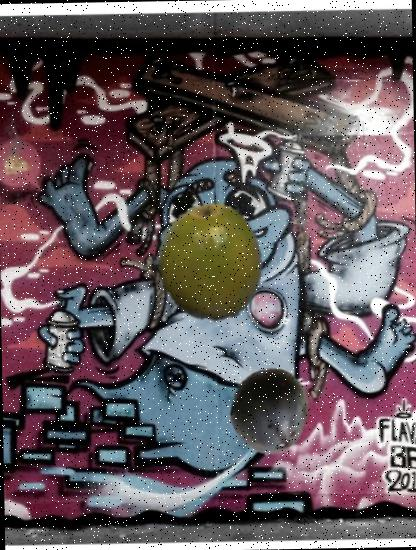Maracuja: (150, 203, 270, 323)
Plum: (224, 365, 315, 457)
